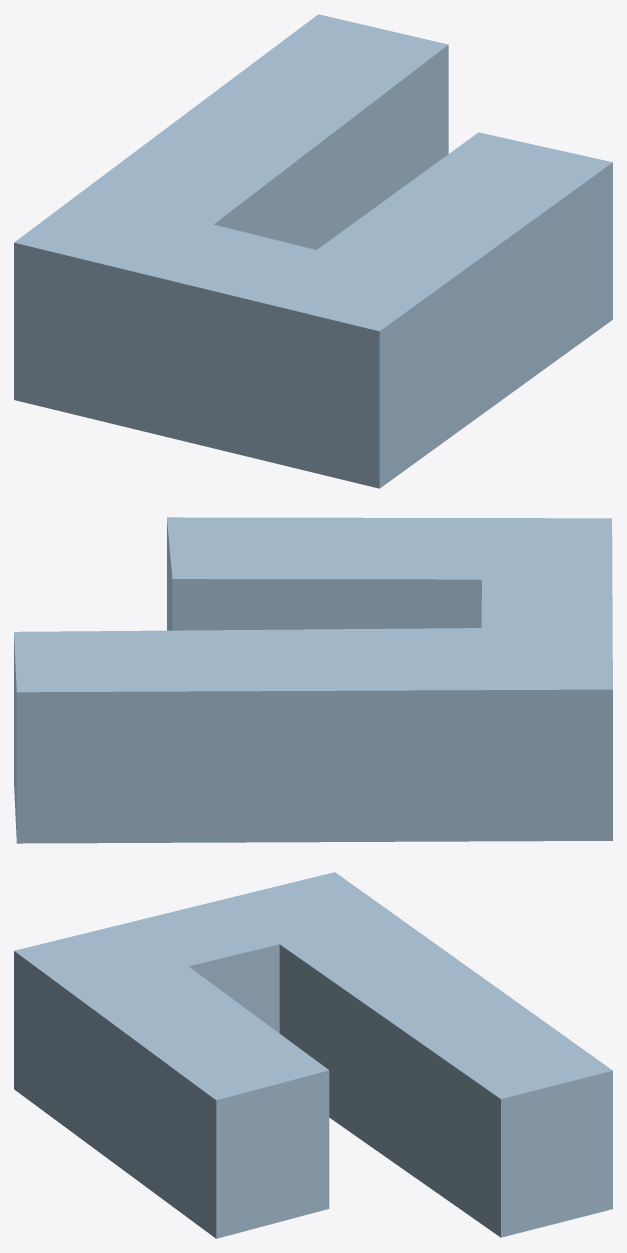
The model's file is osm_way_1173057056.glb.
3 views of the same model, one above another, from view 1: azimuth 30°, elevation 25°; view 2: azimuth 150°, elevation 25°; view 3: azimuth 270°, elevation 25° (orthographic). The views are drawn at different scales.
Parts seen in each view (by area): view 1: osm_way_1173057056; view 2: osm_way_1173057056; view 3: osm_way_1173057056.
Boxes of the visible parts, <box> form: osm_way_1173057056: <box>14,14,612,488</box>; osm_way_1173057056: <box>14,517,612,843</box>; osm_way_1173057056: <box>14,872,612,1238</box>.
Size of the model in its own units: 78.48 by 22.2 by 87.01.
